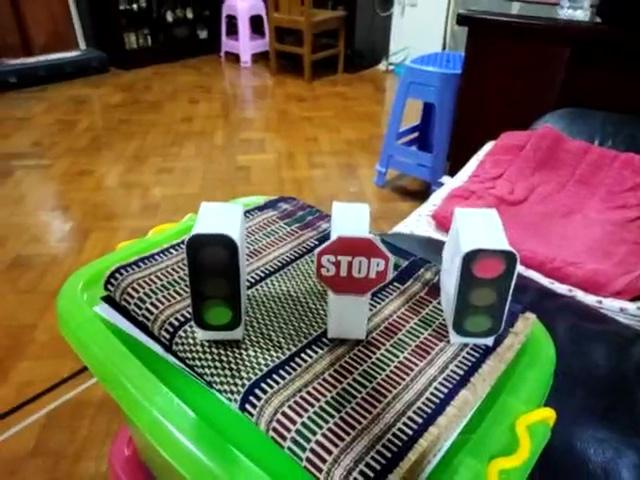Green Traffic Light: (182, 233, 248, 333)
Red Traffic Light: (450, 248, 519, 339)
Stop Sign: (313, 234, 393, 297)
